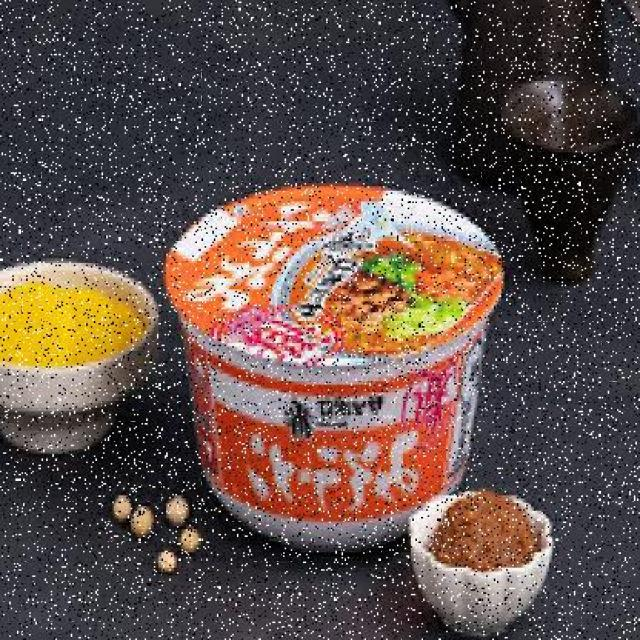Miscellaneous: (159, 183, 496, 554)
